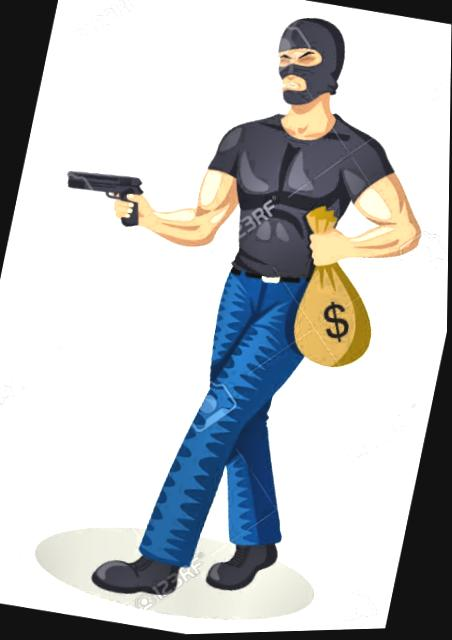pistol: (56, 162, 150, 233)
